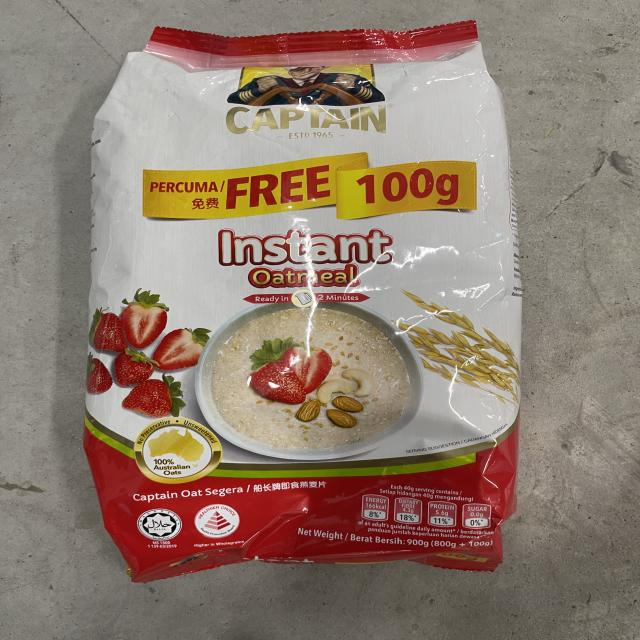object_name: (110, 46, 502, 573)
